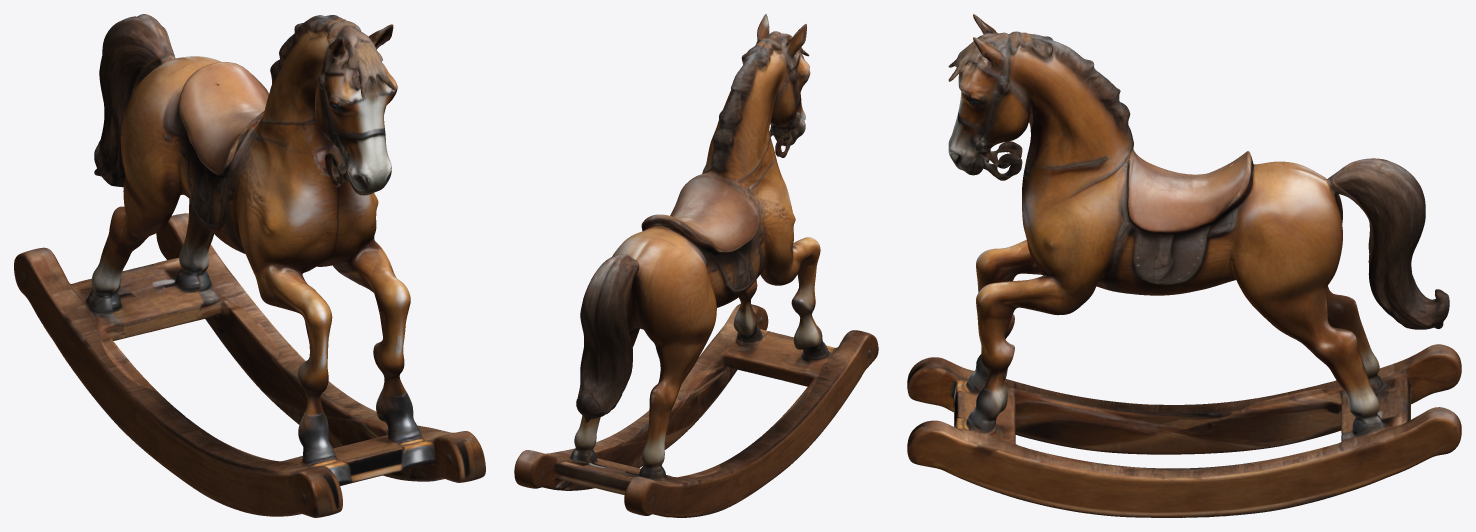
The model's file is _ChristmasAdventure__1225023913_texture.fbx.
The picture shows the model from 3 angles, left to right: view 1: azimuth 30°, elevation 25°; view 2: azimuth 150°, elevation 25°; view 3: azimuth 270°, elevation 25°; orthographic projection. The views are drawn at different scales.
Parts seen in each view (by area): view 1: Mesh1_Mesh1.103; view 2: Mesh1_Mesh1.103; view 3: Mesh1_Mesh1.103.
Boxes of the visible parts, x1,y1,x2,y2 form: Mesh1_Mesh1.103: (14,14,485,517); Mesh1_Mesh1.103: (514,14,878,517); Mesh1_Mesh1.103: (907,14,1461,517).
Size of the model in its own units: 64.45 by 182 by 200.
Materials: 1 (1 with a texture image).
